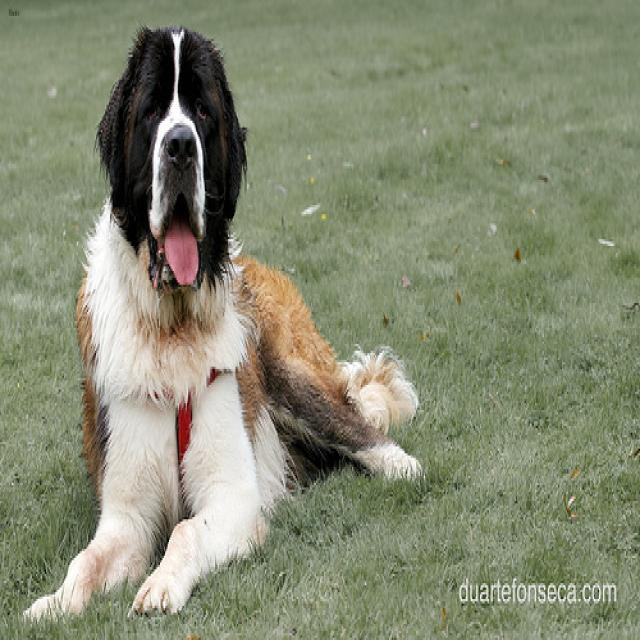dog-saint_bernard: (20, 14, 430, 629)
